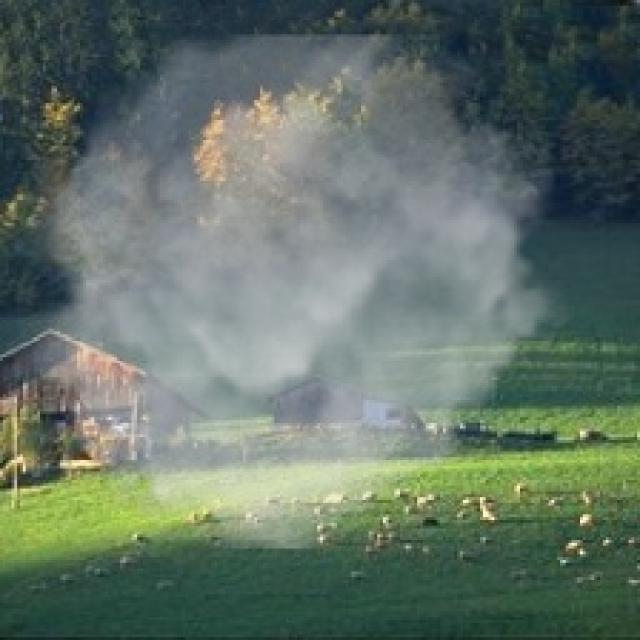smoke: (6, 34, 574, 549)
